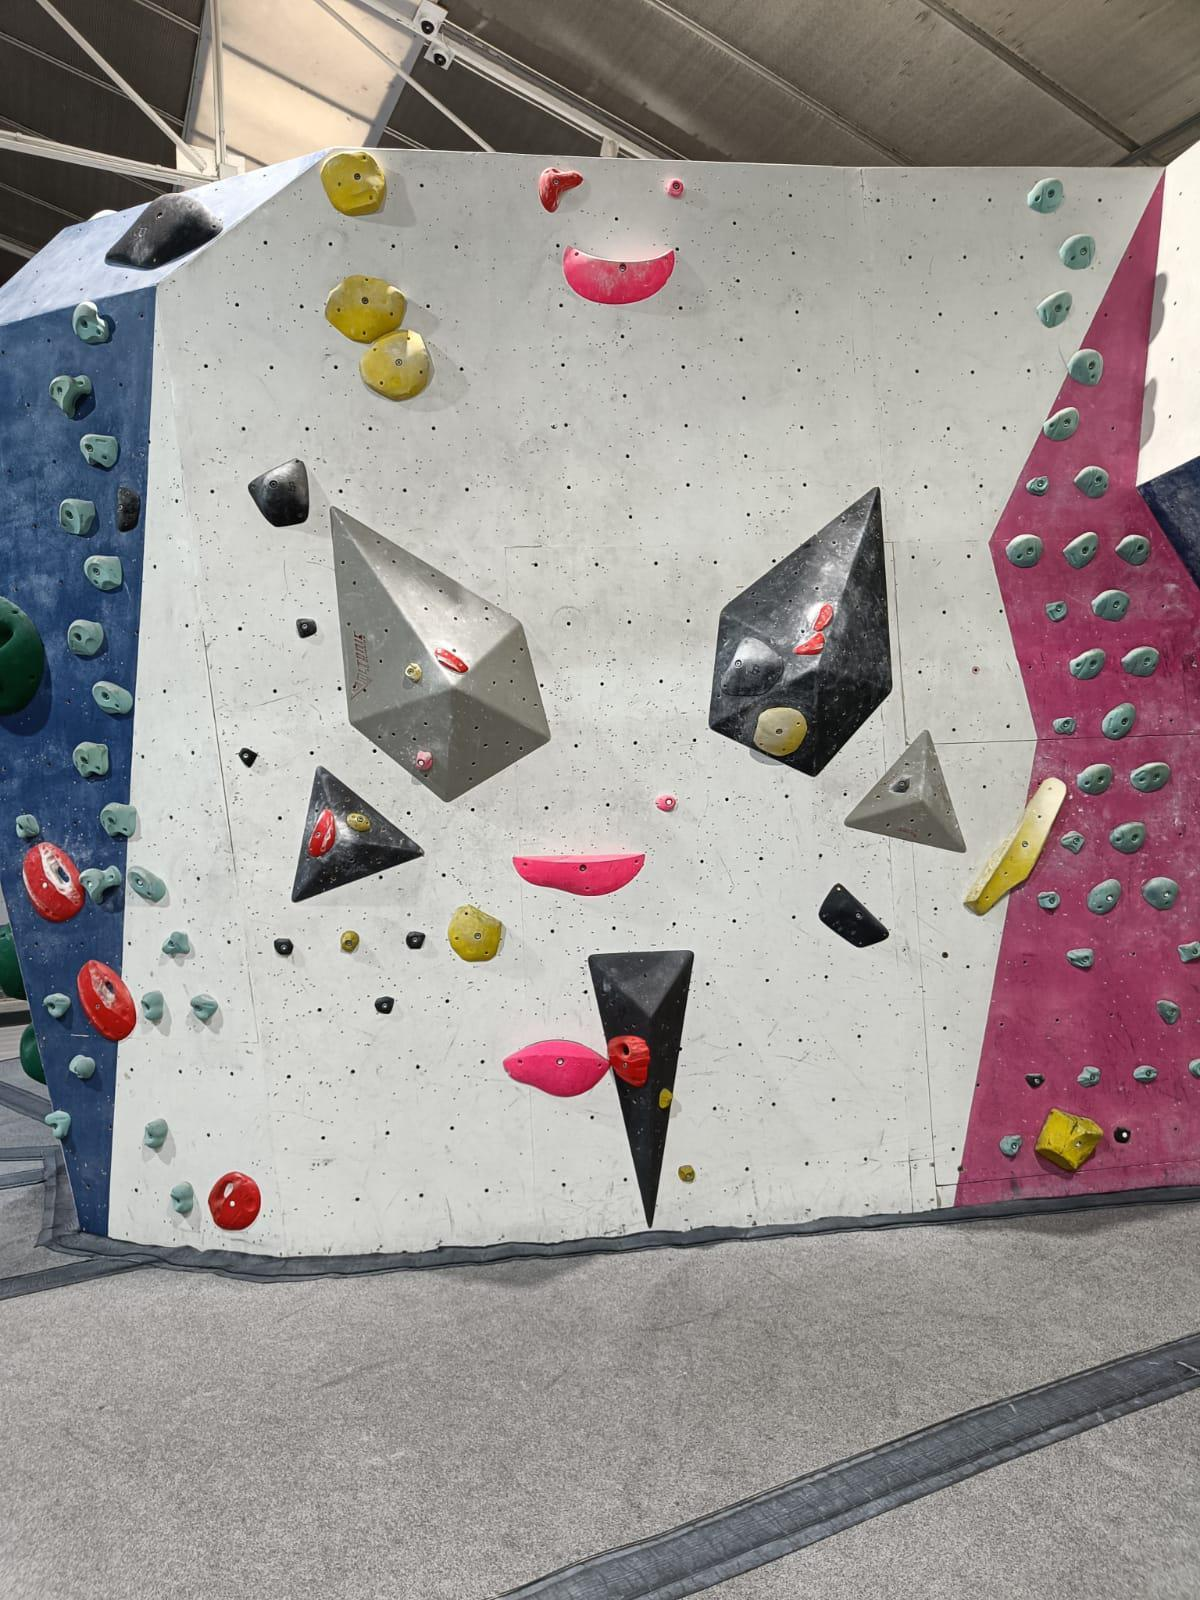hold: (962, 777, 1068, 915), (105, 193, 224, 270), (562, 244, 674, 304), (503, 1039, 611, 1097), (324, 273, 407, 344), (512, 854, 645, 896), (0, 596, 44, 716), (23, 842, 86, 923), (359, 329, 430, 401), (77, 960, 136, 1042), (818, 883, 889, 947), (320, 150, 387, 217), (1035, 1107, 1104, 1172), (247, 459, 310, 527), (721, 636, 784, 695), (208, 1170, 261, 1230), (447, 905, 502, 961), (754, 707, 807, 756), (608, 1034, 652, 1087), (538, 166, 584, 212), (0, 923, 26, 1000), (49, 374, 93, 420), (77, 864, 122, 906), (19, 1023, 48, 1085), (72, 301, 110, 344), (1034, 290, 1073, 328), (127, 866, 166, 903), (92, 680, 134, 716), (1063, 530, 1099, 569), (83, 554, 122, 591), (308, 808, 337, 857), (1066, 348, 1103, 386), (1058, 233, 1095, 270), (1026, 178, 1064, 214), (72, 741, 110, 777), (59, 498, 96, 535), (100, 801, 136, 838), (1102, 702, 1137, 740), (1042, 406, 1080, 441), (68, 619, 103, 656), (1005, 533, 1044, 567), (79, 433, 118, 467), (1090, 588, 1131, 621), (1087, 878, 1122, 915), (1141, 877, 1179, 911), (1073, 465, 1111, 499), (1129, 761, 1171, 791), (1109, 820, 1146, 854), (1069, 648, 1107, 680), (1121, 645, 1160, 677), (1076, 762, 1113, 794), (116, 486, 141, 532), (1114, 534, 1151, 564), (435, 648, 468, 673), (169, 1180, 193, 1214), (44, 1110, 72, 1139), (144, 1117, 169, 1149), (43, 993, 72, 1019), (794, 631, 826, 655), (69, 1053, 96, 1081), (190, 994, 218, 1020), (161, 930, 190, 955), (1065, 947, 1095, 969), (141, 990, 163, 1020), (1060, 829, 1085, 854), (15, 814, 40, 839), (1156, 999, 1180, 1024), (1076, 1065, 1102, 1087), (813, 603, 833, 631), (1025, 475, 1050, 496), (1000, 1134, 1022, 1157), (1177, 940, 1200, 963), (347, 813, 372, 833), (1132, 1063, 1158, 1082), (1045, 600, 1068, 621), (1051, 717, 1076, 736), (296, 617, 318, 639), (1037, 891, 1061, 910), (340, 930, 359, 952), (655, 794, 677, 813), (403, 663, 422, 683), (238, 747, 257, 767), (416, 750, 434, 771), (1024, 1072, 1046, 1089), (374, 997, 395, 1014), (274, 937, 294, 955), (664, 179, 684, 197), (406, 931, 425, 949), (1113, 1125, 1131, 1143), (678, 1164, 696, 1182), (890, 777, 910, 792), (659, 1087, 673, 1109), (1187, 1058, 1200, 1080)
volume: (330, 505, 551, 803), (710, 486, 892, 776), (589, 950, 695, 1228), (291, 765, 425, 902), (843, 729, 967, 853)
